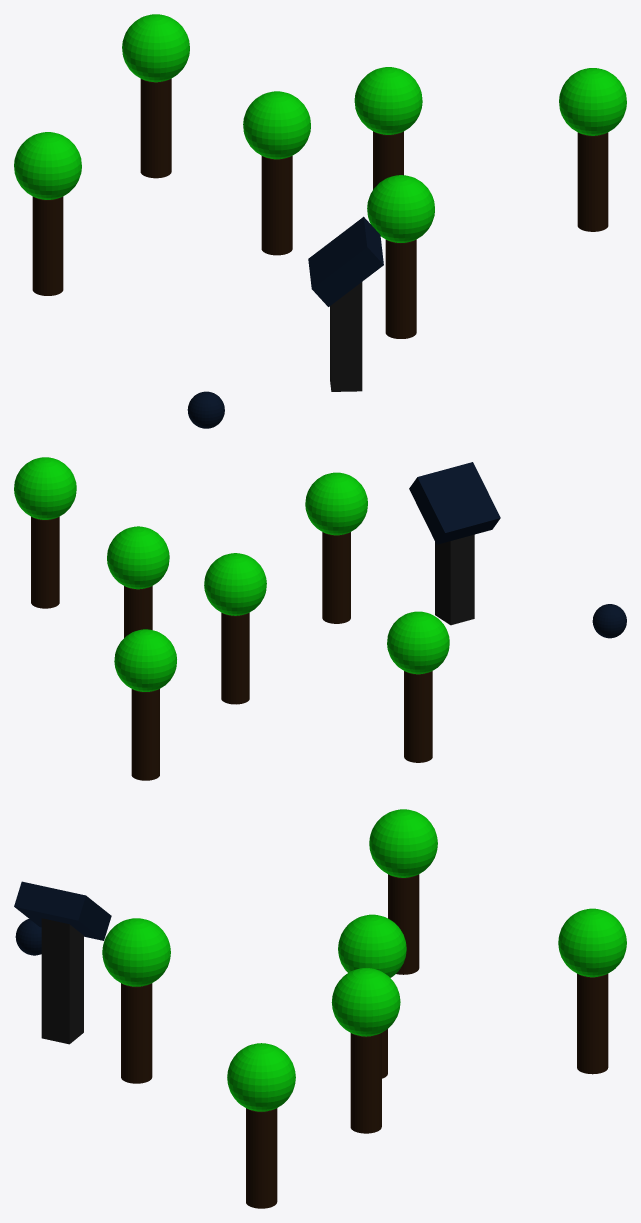
The model's file is exercise20074.obj.
3 views of the same model, one above another, from view 1: azimuth 30°, elevation 25°; view 2: azimuth 150°, elevation 25°; view 3: azimuth 270°, elevation 25° (orthographic). The views are drawn at different scales.
Visible parts, largest first — view 1: Cube.001, Sphere.006, Sphere.003, Sphere.005, Sphere.002, Sphere, Sphere.004, Cube, Cylinder.003, Cylinder.002, Cylinder.006, Cylinder.005 (+4 smaller); view 2: Cube.001, Cube, Sphere.006, Sphere, Sphere.003, Sphere.004, Sphere.002, Sphere.005, Cylinder.002, Cylinder.003, Cylinder.005, Cylinder.006 (+4 smaller); view 3: Cube, Sphere.005, Sphere.003, Sphere.004, Sphere, Sphere.006, Sphere.002, Cube.001, Cylinder.004, Cylinder.003, Cylinder.005, Cylinder (+3 smaller).
Part boxes in pixels (x1,y1,x2,y2): Cube.001: [308, 216, 383, 306]; Sphere.006: [14, 132, 81, 199]; Sphere.003: [559, 68, 626, 135]; Sphere.005: [122, 14, 189, 82]; Sphere.002: [243, 91, 310, 159]; Sphere: [354, 67, 422, 134]; Sphere.004: [367, 175, 434, 242]; Cube: [330, 282, 362, 391]; Cylinder.003: [577, 132, 608, 231]; Cylinder.002: [261, 156, 292, 255]; Cylinder.006: [32, 196, 63, 295]; Cylinder.005: [140, 78, 171, 178]; Cube.001: [409, 462, 500, 544]; Cube: [435, 534, 474, 625]; Sphere.006: [387, 611, 449, 674]; Sphere: [107, 526, 169, 589]; Sphere.003: [14, 457, 76, 519]; Sphere.004: [305, 472, 367, 535]; Sphere.002: [204, 553, 266, 615]; Sphere.005: [114, 629, 176, 691]; Cylinder.002: [221, 612, 249, 704]; Cylinder.003: [31, 516, 59, 608]; Cylinder.005: [131, 689, 159, 780]; Cylinder.006: [404, 671, 432, 762]; Cube: [41, 918, 83, 1044]; Sphere.005: [558, 908, 626, 977]; Sphere.003: [227, 1043, 295, 1111]; Sphere.004: [102, 918, 170, 986]; Sphere: [331, 968, 400, 1036]; Sphere.006: [369, 809, 437, 877]; Sphere.002: [338, 914, 406, 977]; Cube.001: [14, 881, 111, 940]; Cylinder.004: [121, 983, 152, 1083]; Cylinder.003: [246, 1108, 277, 1208]; Cylinder.005: [577, 973, 608, 1074]; Cylinder: [350, 1033, 381, 1132].
Size of what is drawn, in the model's own units: 40.53 by 11.23 by 39.13.
